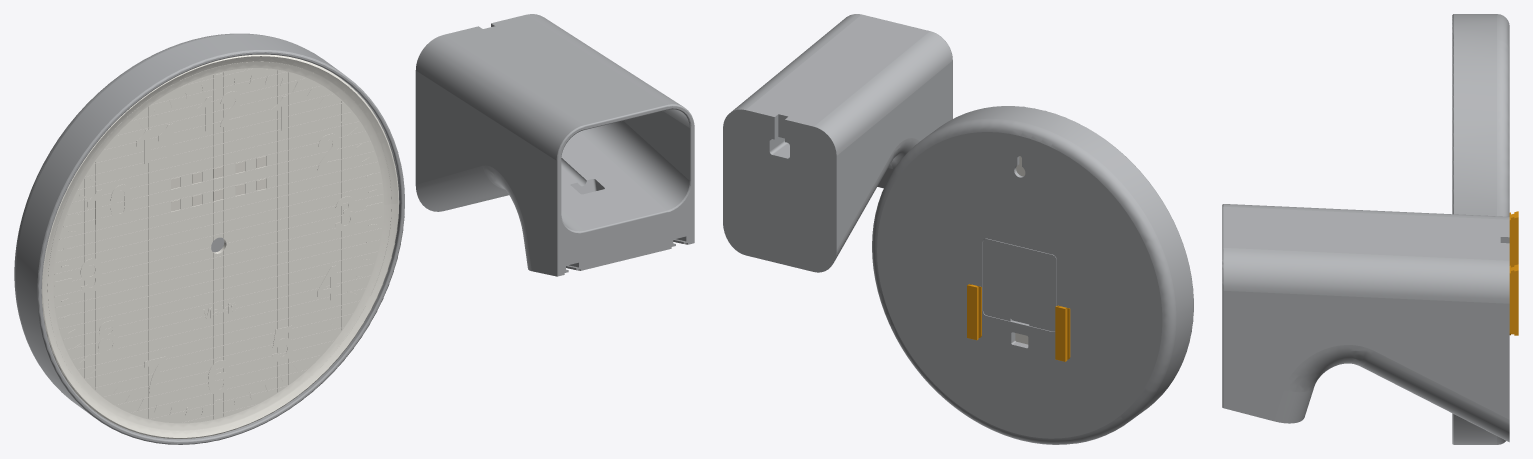
File: clock_recovered.glb
3 renders of one model, left to right at view 1: azimuth 30°, elevation 25°; view 2: azimuth 150°, elevation 25°; view 3: azimuth 270°, elevation 25°, orthographic. The views are drawn at different scales.
Parts seen in each view (by area): view 1: o1.2, o1.4, o1.1; view 2: o1.1, o1.4, o1.3, o1.5, o1.6; view 3: o1.4, o1.1, o1.6, o1.5.
Part boxes in pixels (x1,y1,x2,y2): o1.2: [41, 54, 399, 438]; o1.4: [415, 14, 694, 276]; o1.1: [14, 33, 404, 444]; o1.1: [872, 106, 1193, 444]; o1.4: [723, 14, 952, 272]; o1.3: [983, 238, 1056, 331]; o1.5: [1055, 305, 1070, 361]; o1.6: [967, 284, 981, 340]; o1.4: [1222, 204, 1509, 442]; o1.1: [1452, 14, 1509, 444]; o1.6: [1509, 264, 1518, 335]; o1.5: [1509, 211, 1518, 267].
Size of the model in its own units: 0.3549 by 0.24 by 0.165.
